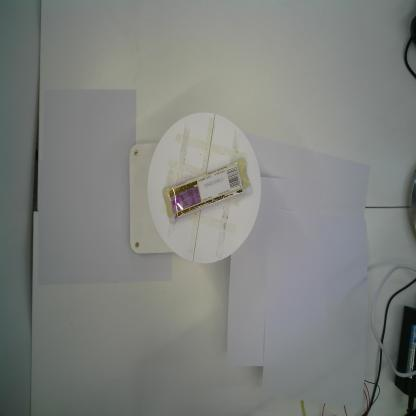Chocolate: (161, 156, 253, 224)
